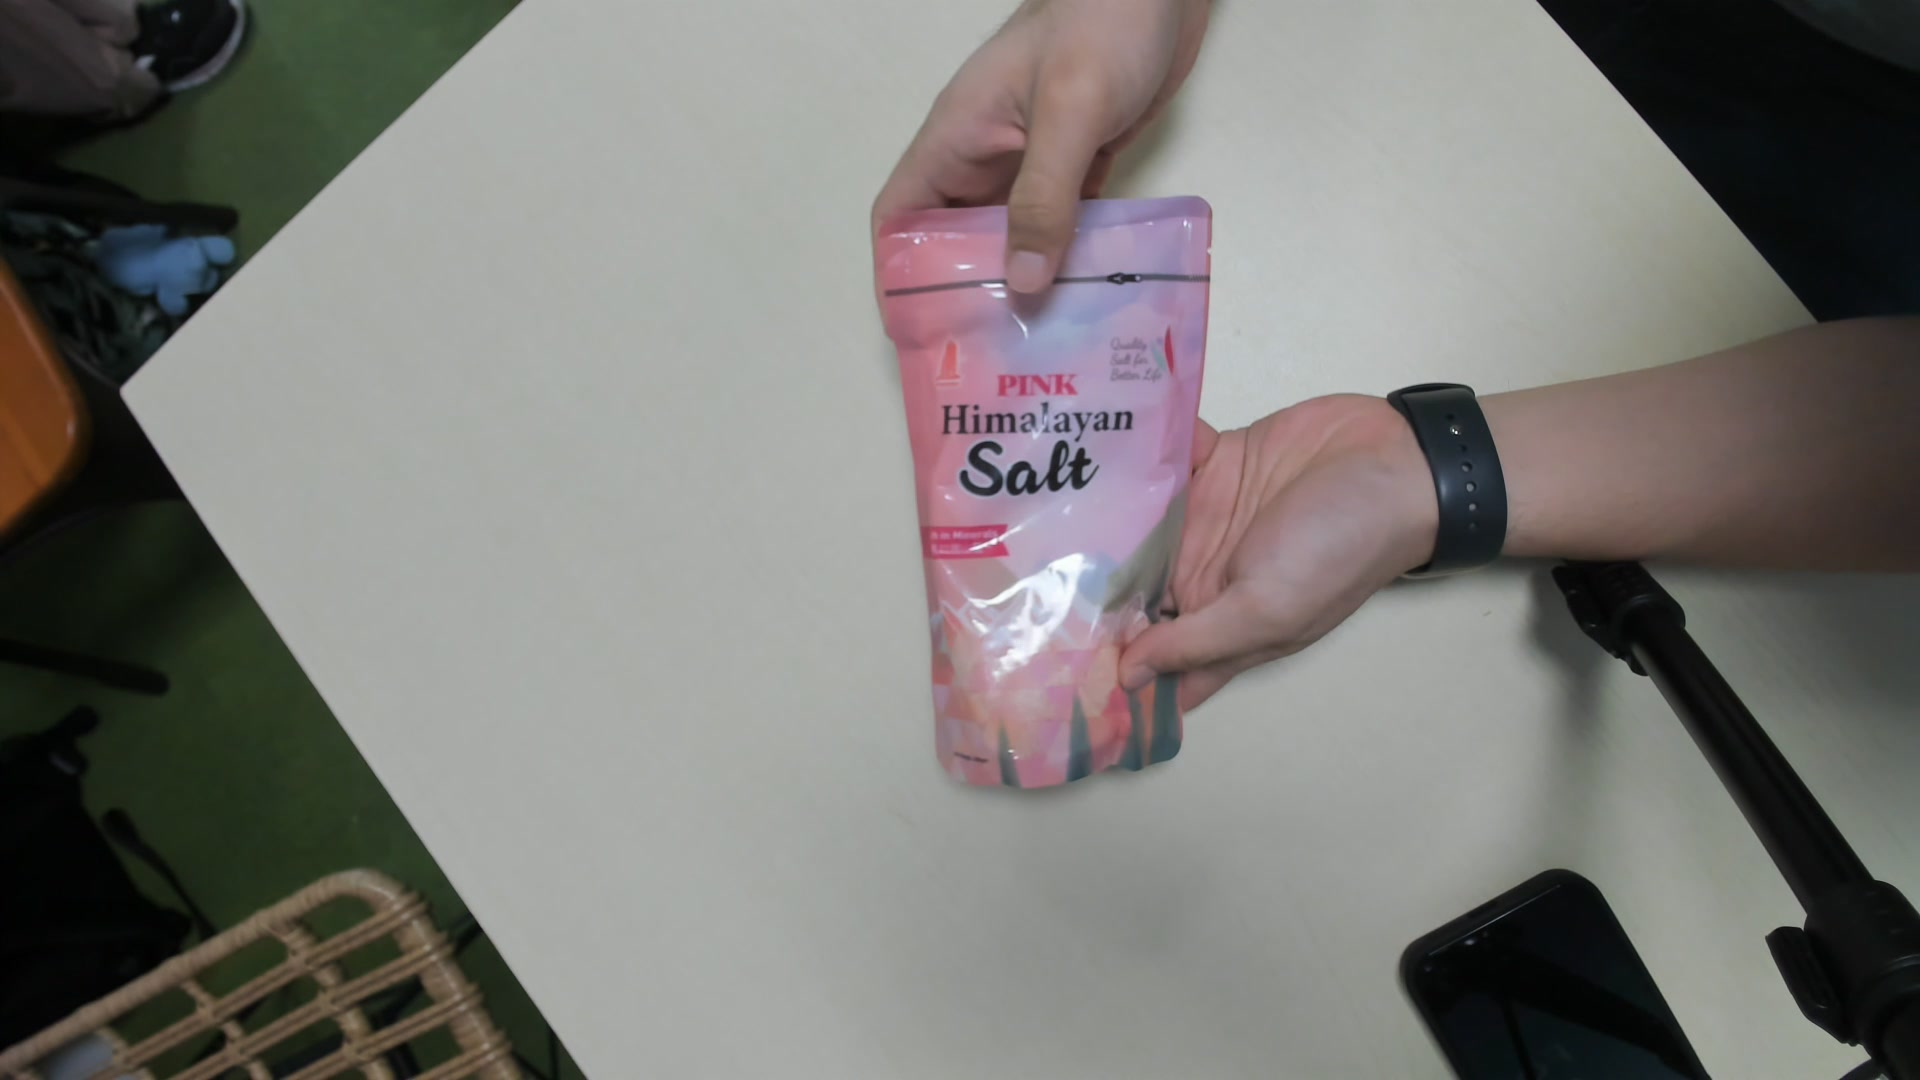Salt_400-499g_NonHalal_NonHealthy: (880, 195, 1209, 804)
